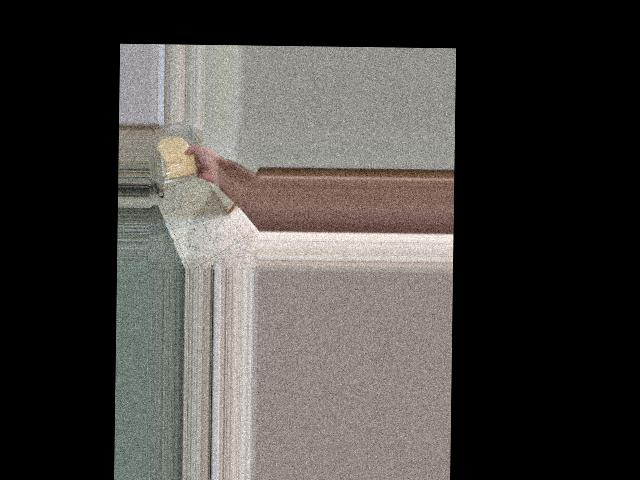cheese: (153, 134, 199, 183)
